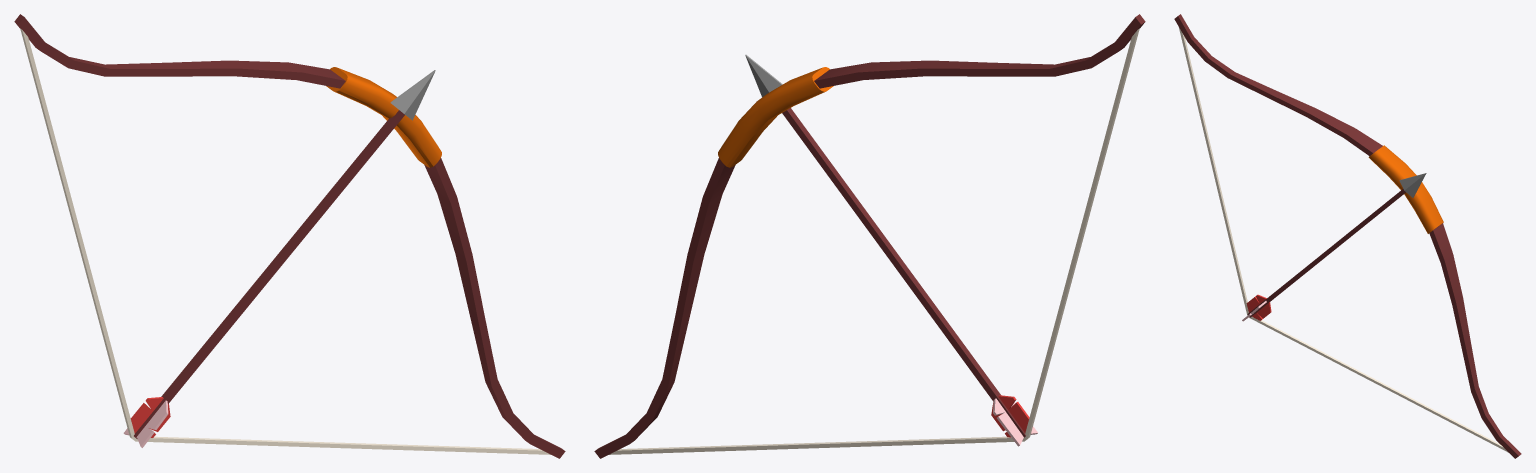
Rendered from bow_and_arrow.glb.
3 views of the same model, side by side, from view 1: azimuth 30°, elevation 25°; view 2: azimuth 150°, elevation 25°; view 3: azimuth 330°, elevation 25° (orthographic). The views are drawn at different scales.
Parts seen in each view (by area): view 1: Plane.343; view 2: Plane.343; view 3: Plane.343.
Part boxes in pixels (box(x1,y1,x2,y2)): Plane.343: box(14, 14, 565, 458); Plane.343: box(594, 14, 1145, 458); Plane.343: box(1174, 14, 1521, 458).
Size of the model in its own units: 2.14 by 2.14 by 0.1483.
1 material, 1 textured.
